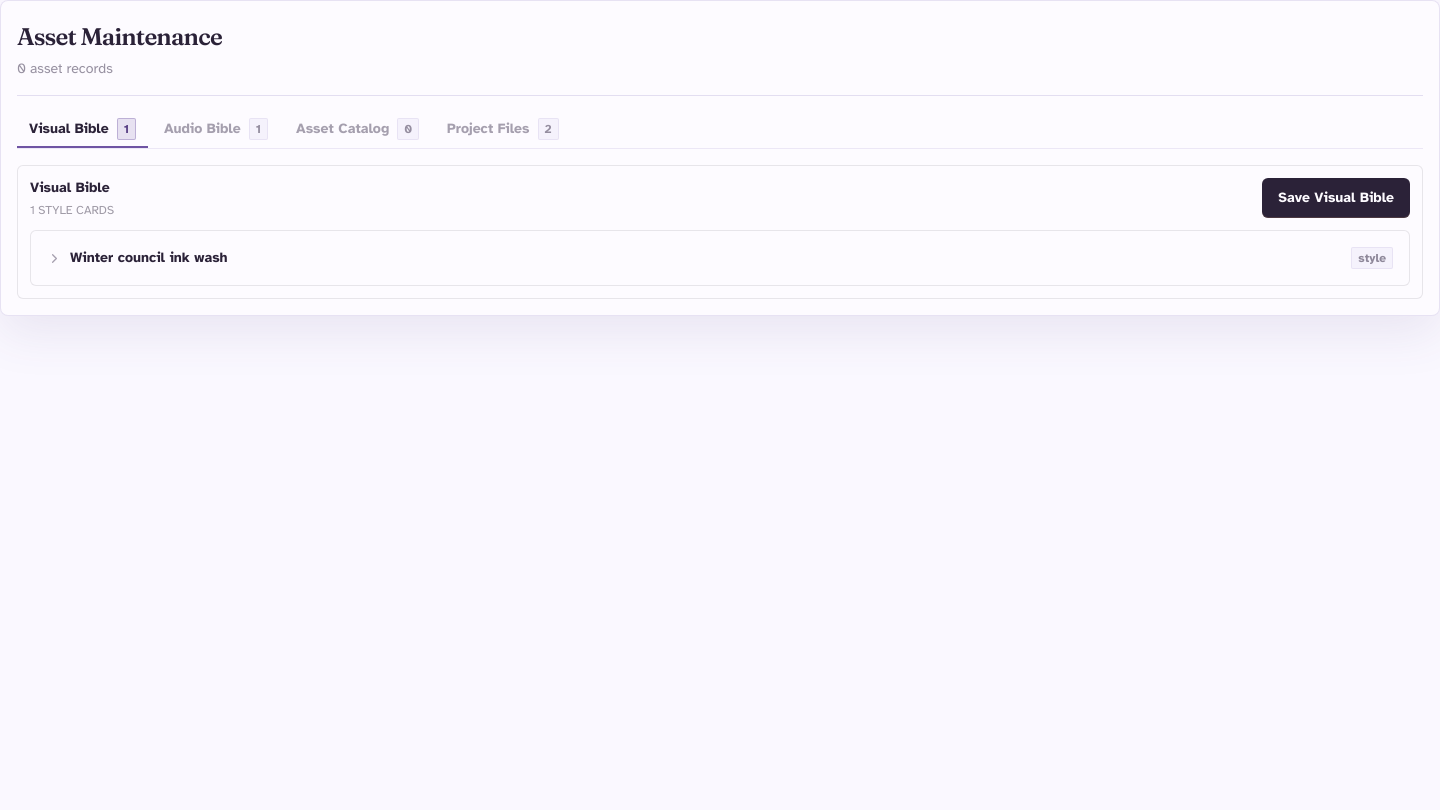
Test: AssetMaintenanceView › expands Audio Bible card and shows editable voice field
Click the tab "Audio Bible 1" at [216, 130], box 152,112 -> 280,148
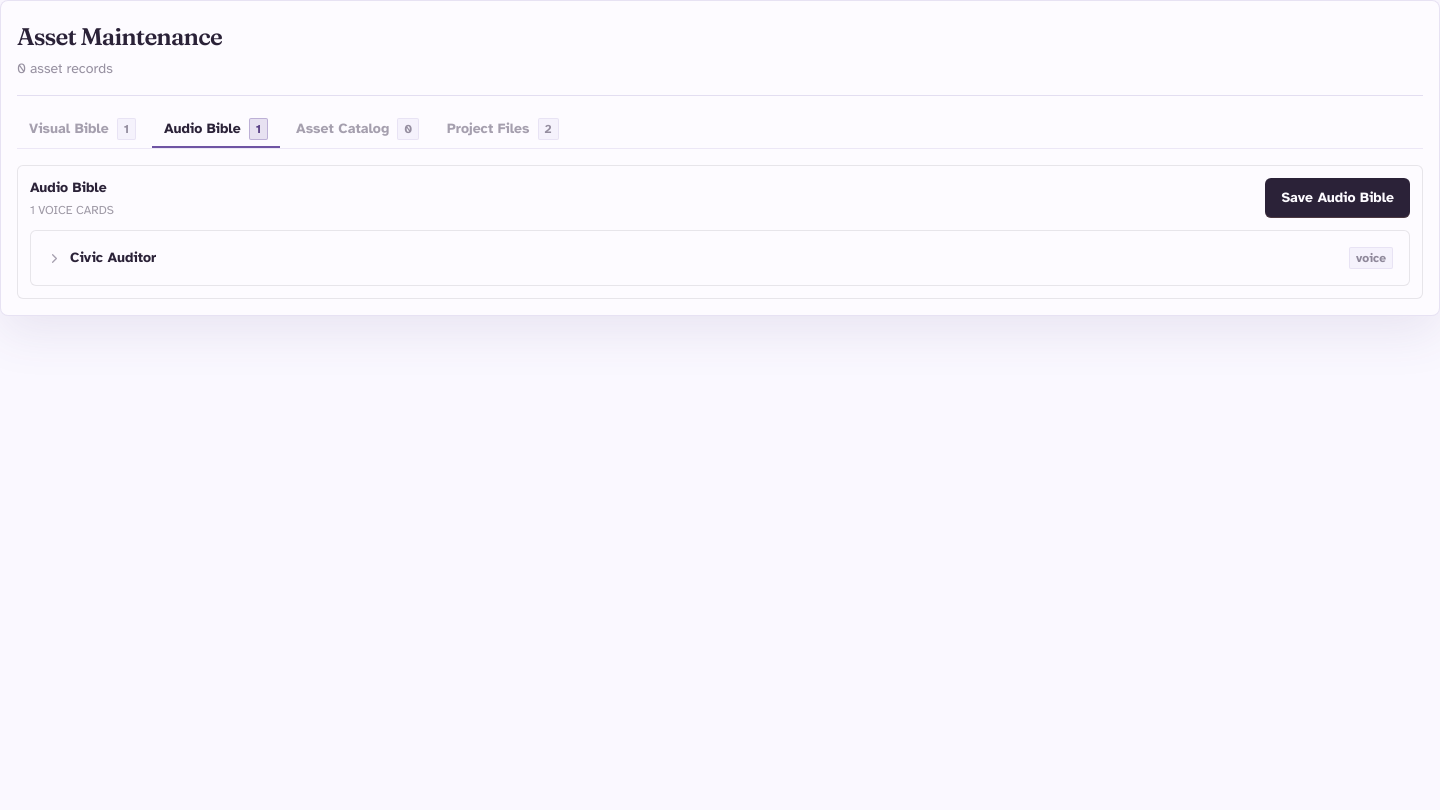
Click the button "Civic Auditor voice" at [113, 258], box 43,243 -> 1397,273
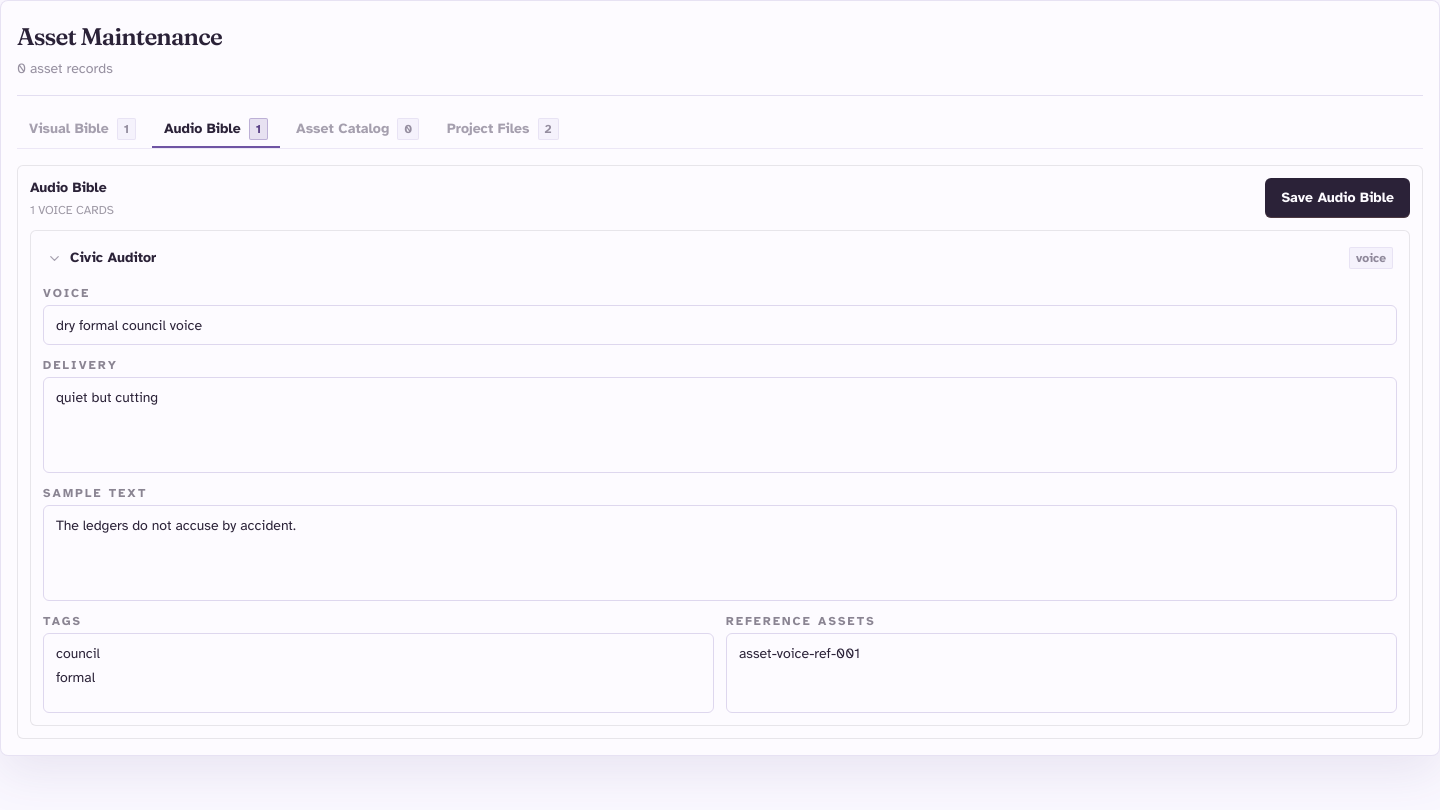
Check: the field named "Audio voice 1" holds "dry formal council voice", box 43,305 -> 1397,345
